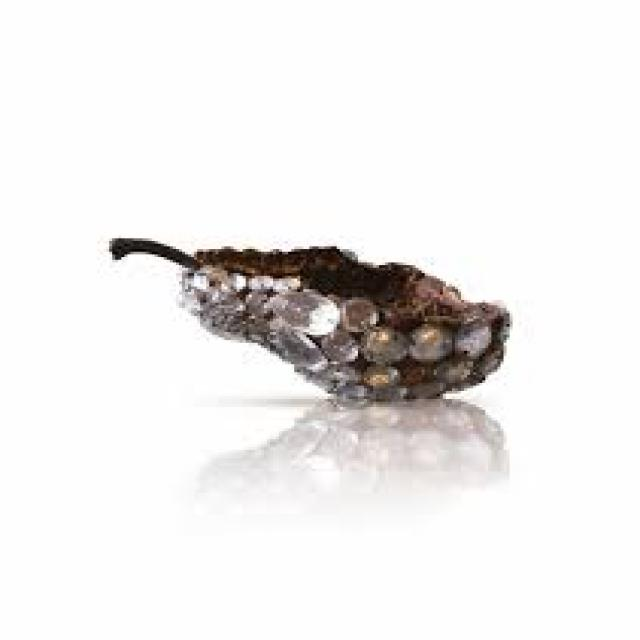organic waste: (106, 236, 507, 404)
